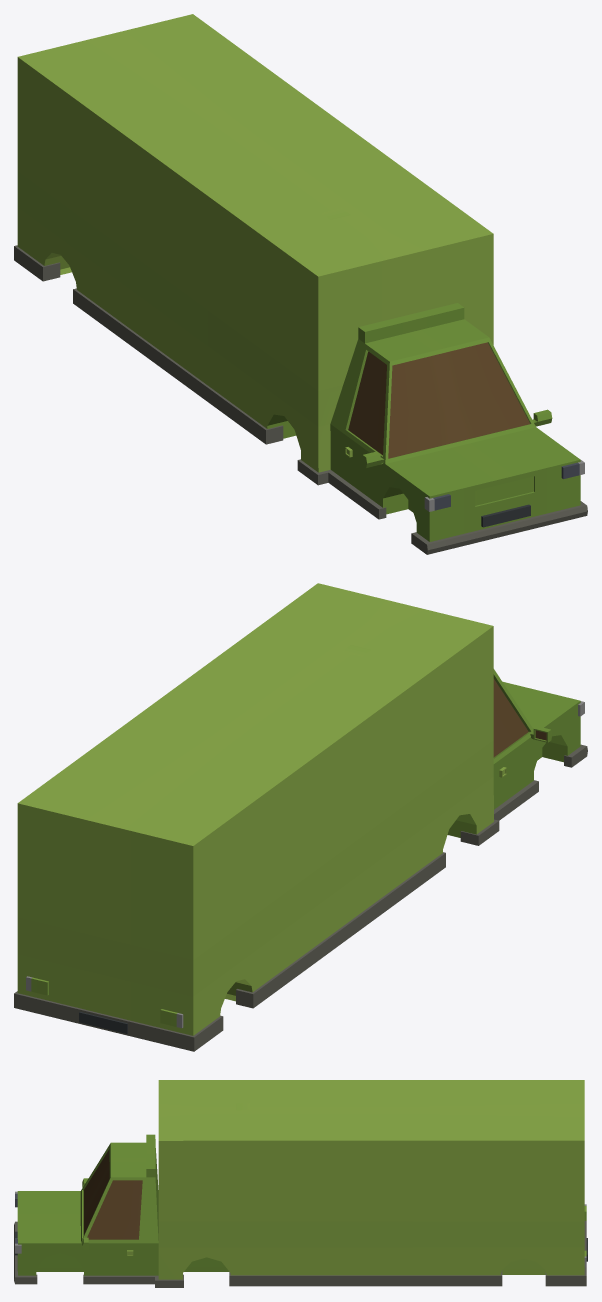
File: Car_14.fbx
The picture shows the model from 3 angles, top to bottom: view 1: azimuth 30°, elevation 25°; view 2: azimuth 150°, elevation 25°; view 3: azimuth 270°, elevation 25°; orthographic projection. The views are drawn at different scales.
Parts seen in each view (by area): view 1: Car_14; view 2: Car_14; view 3: Car_14.
Part boxes in pixels (left/top/right/bottom): Car_14: left=14, top=14, right=587, bottom=554; Car_14: left=14, top=583, right=587, bottom=1051; Car_14: left=14, top=1080, right=587, bottom=1287.
Size of the model in its own units: 1.97 by 2.09 by 7.44.
